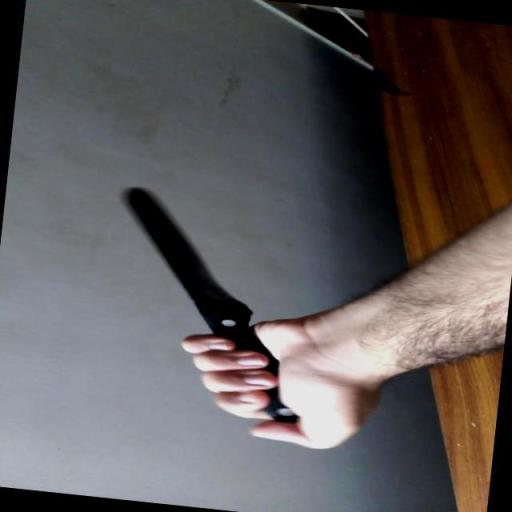knife: (94, 180, 302, 454)
